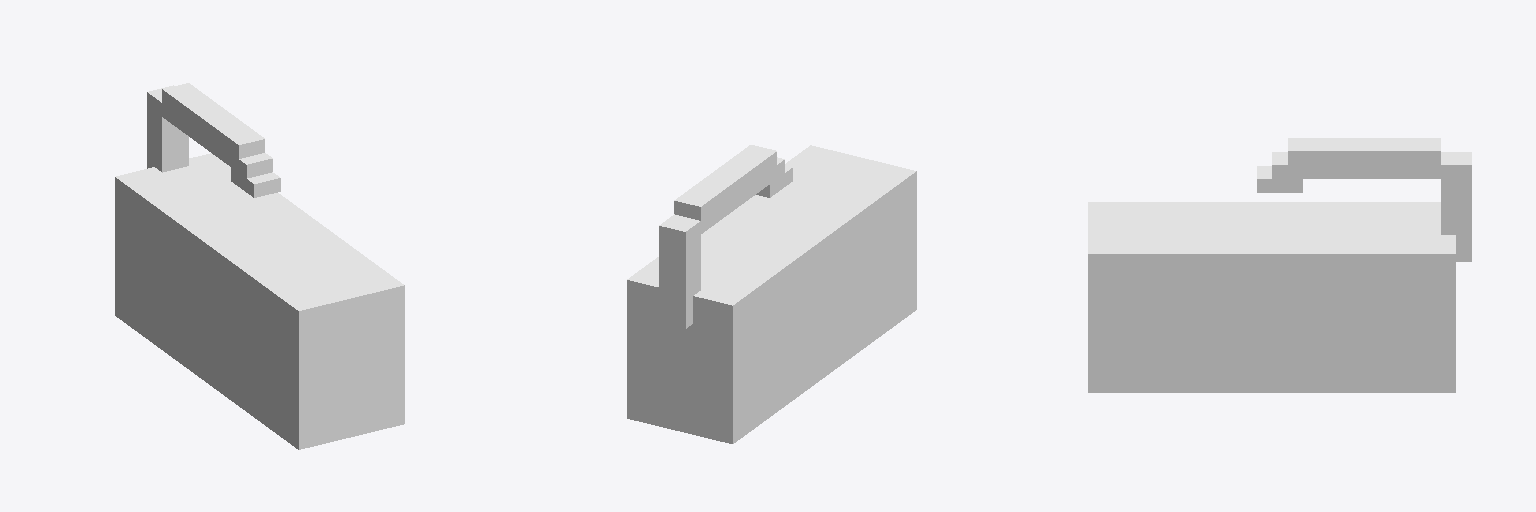
Rendered from Samy-5.obj.
3 views of the same model, side by side, from view 1: azimuth 30°, elevation 25°; view 2: azimuth 150°, elevation 25°; view 3: azimuth 270°, elevation 25° (orthographic).
Parts seen in each view (by area): view 1: object 1; view 2: object 1; view 3: object 1.
Boxes of the visible parts, <box> form: object 1: <box>115,83,404,449</box>; object 1: <box>627,145,916,443</box>; object 1: <box>1088,138,1471,392</box>.
Size of the model in its own units: 0.8 by 1.6 by 2.5.